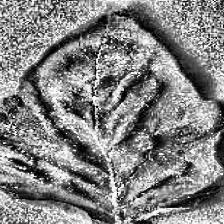spider mites: (0, 3, 224, 222)
